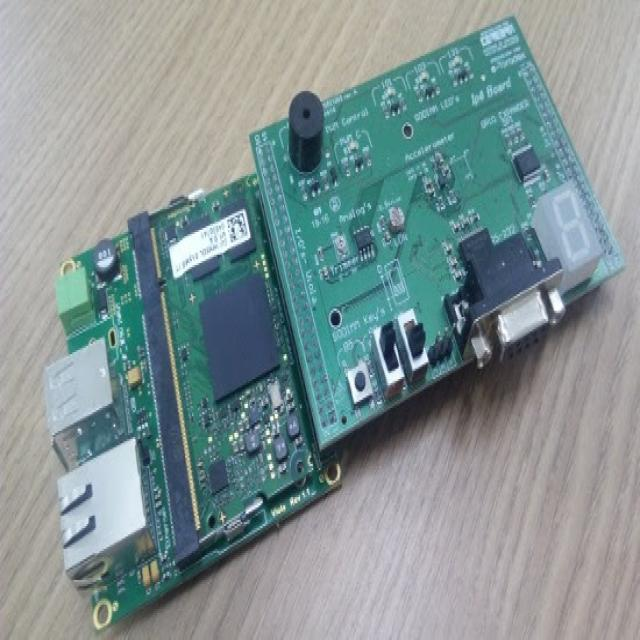som: (138, 165, 316, 552)
